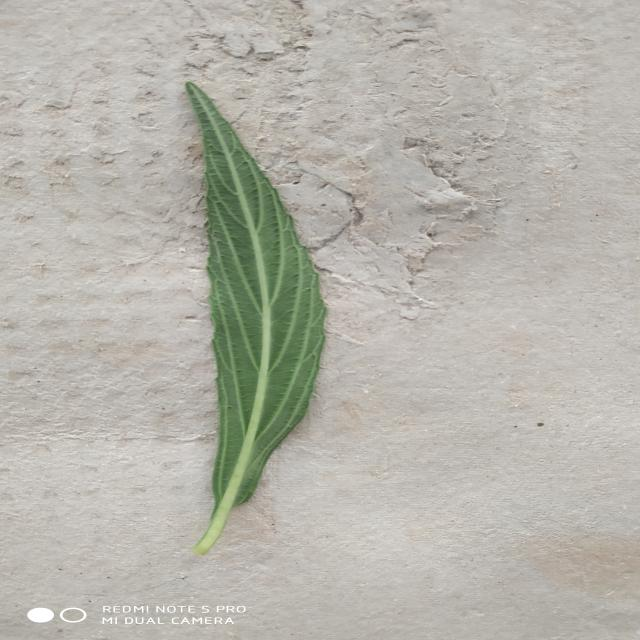thambe: (187, 82, 327, 555)
